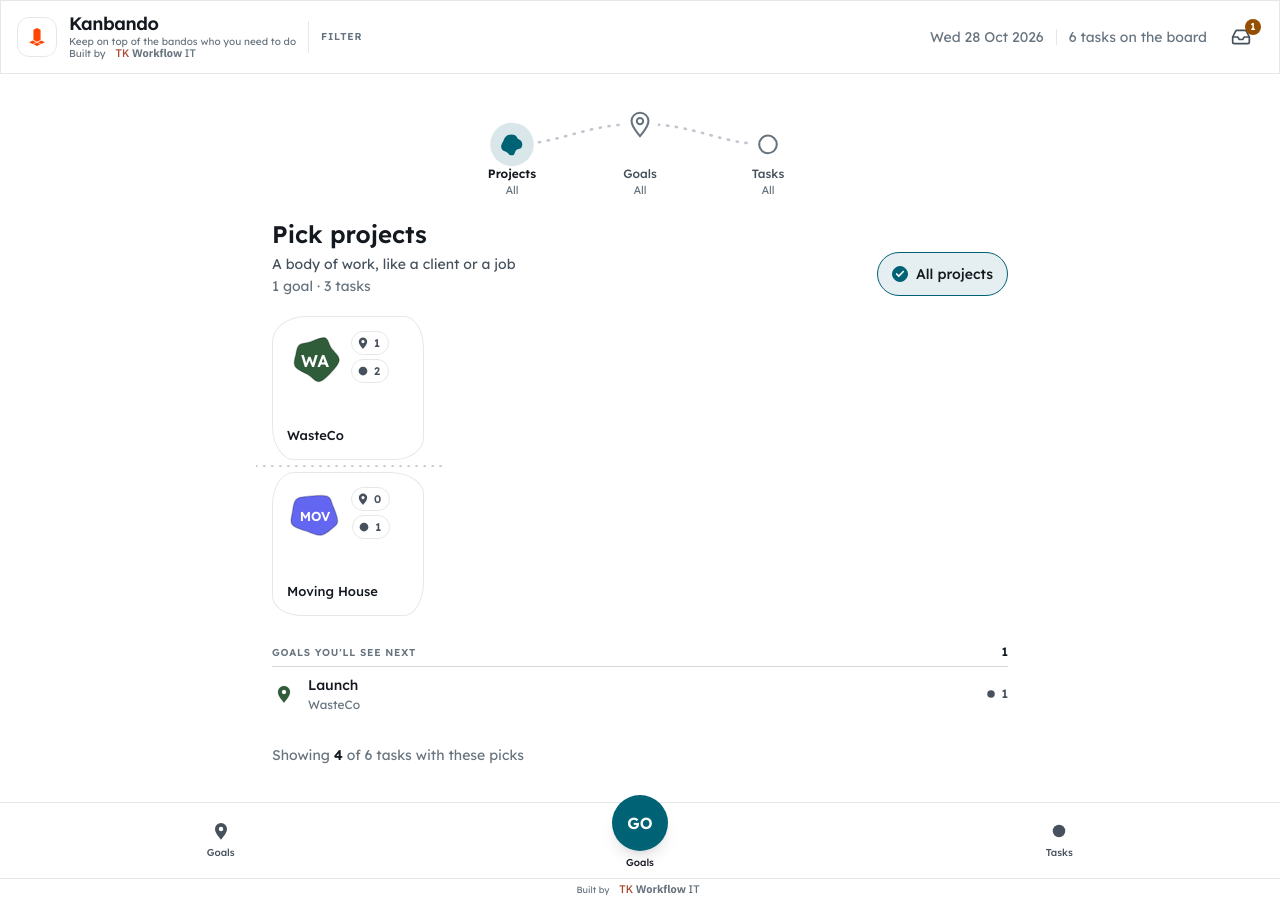
Test: Landing: the filter wizard › All lets go of what a stage picked
Click the button with test id "wizard-jump-goals".
click(221, 840)  # box [187,812,255,868]
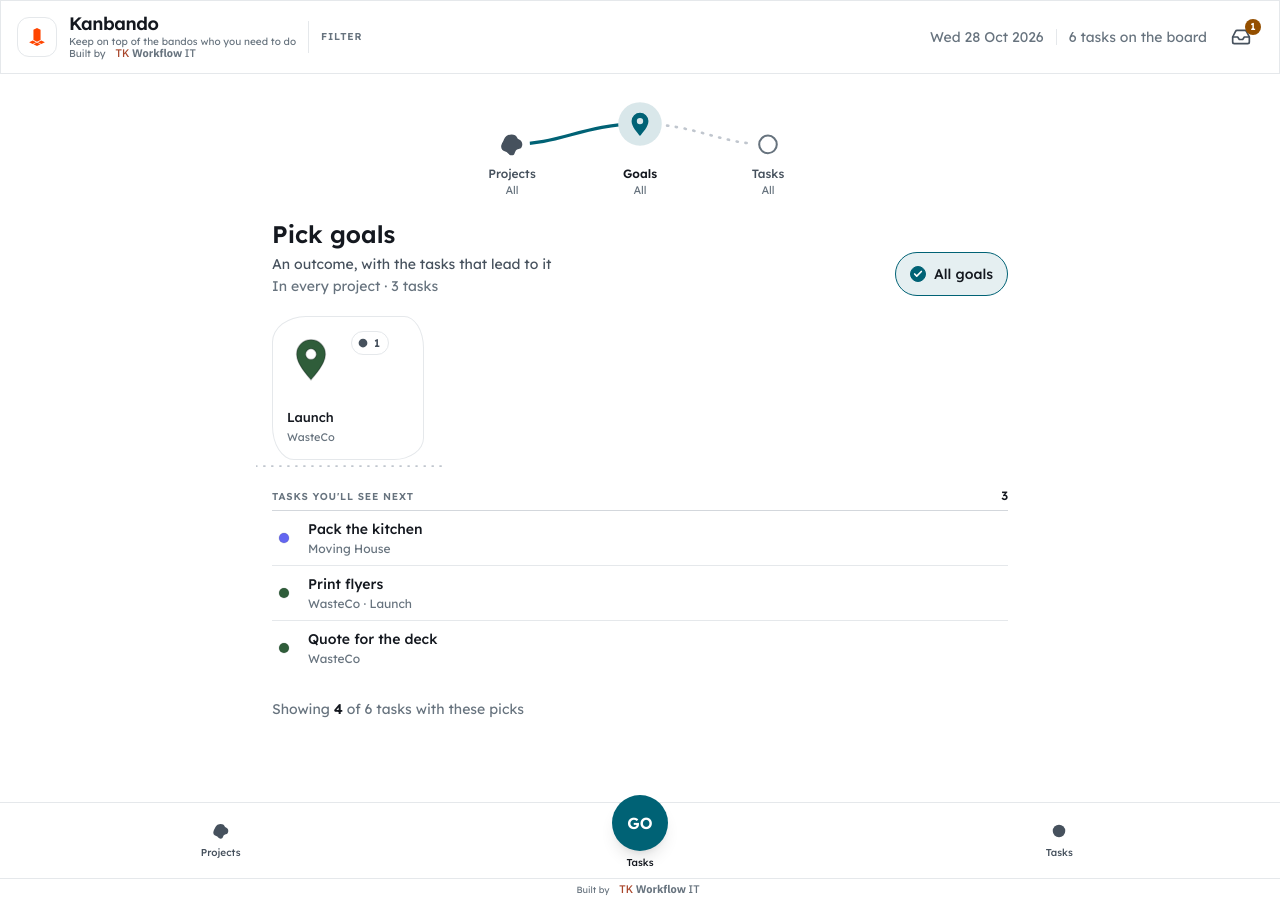
Click the button "1 Launch WasteCo".
click(348, 388)  # box [272,316,424,460]
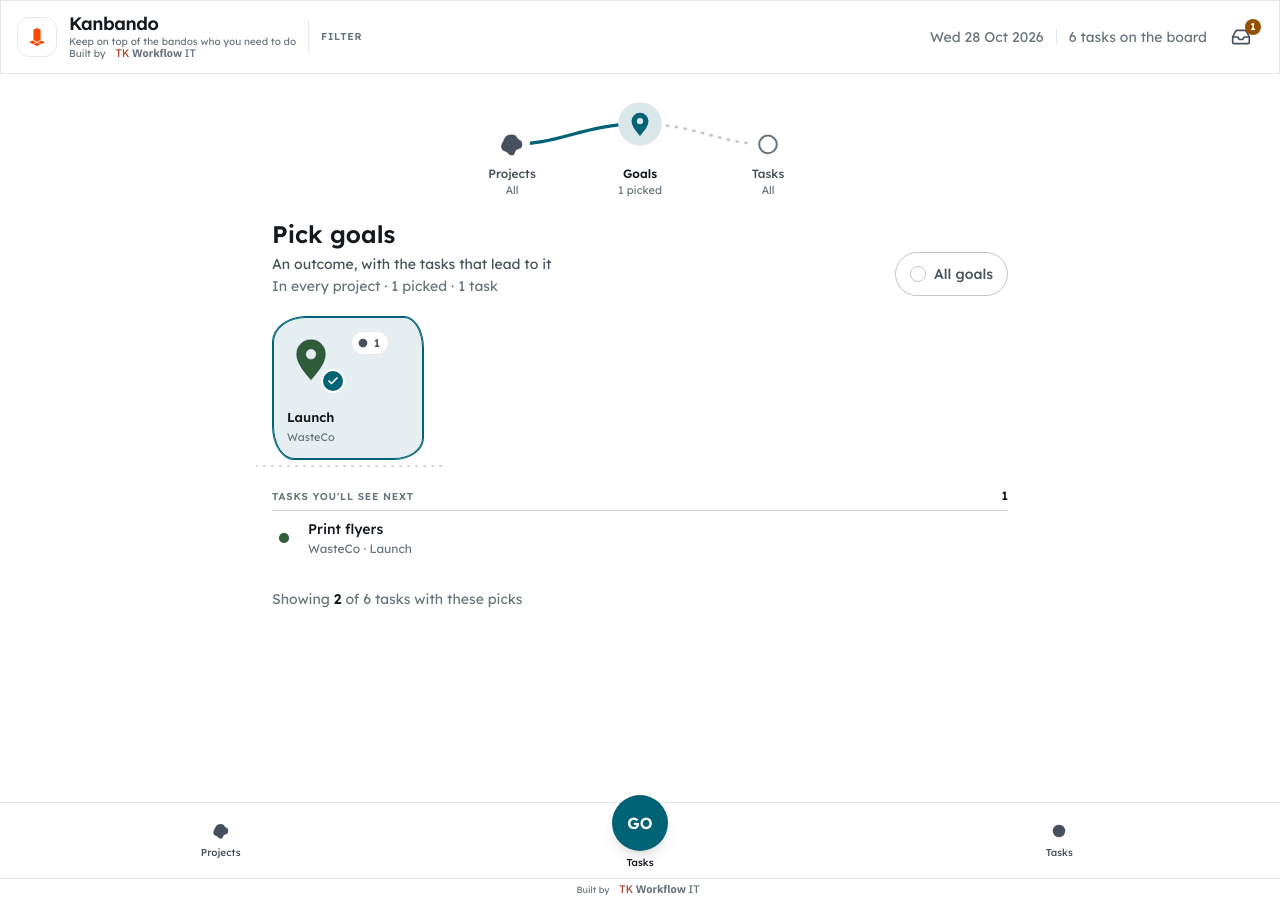
Expected: the message with test id "landing-showing" shows "Showing 2 of 6", [272,590,523,608]
Click the button with test id "wizard-all-goals".
click(952, 274)  # box [895,252,1008,296]
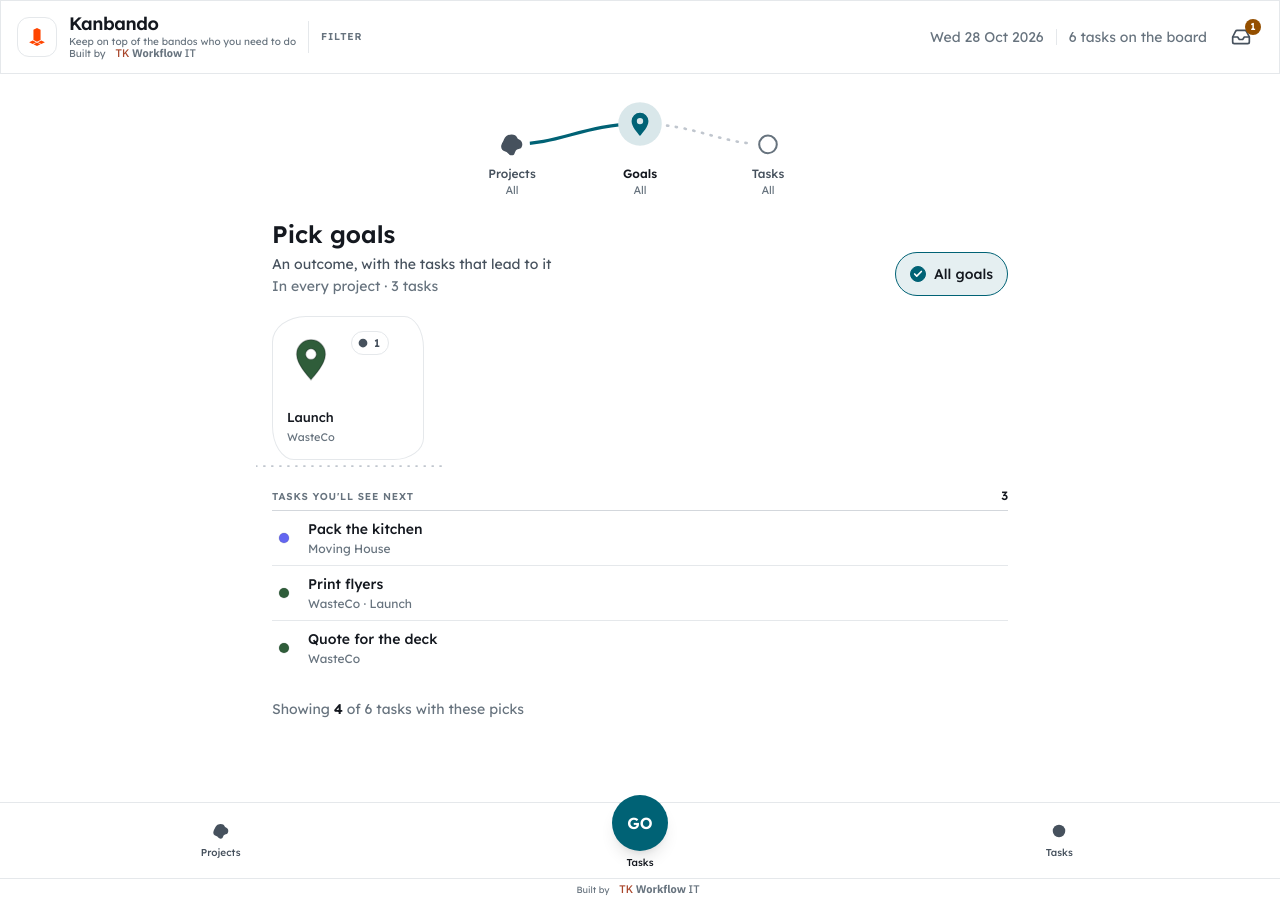
Expected: the message with test id "landing-showing" shows "Showing 4 of 6", [272,700,524,718]
